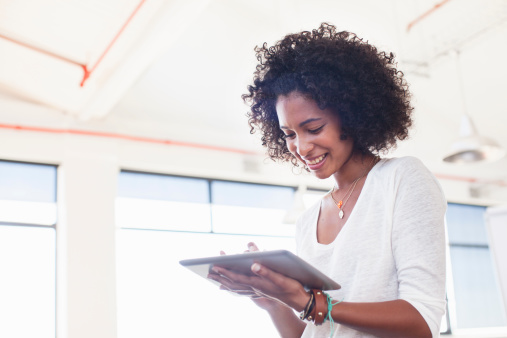em pe: (216, 55, 455, 338)
